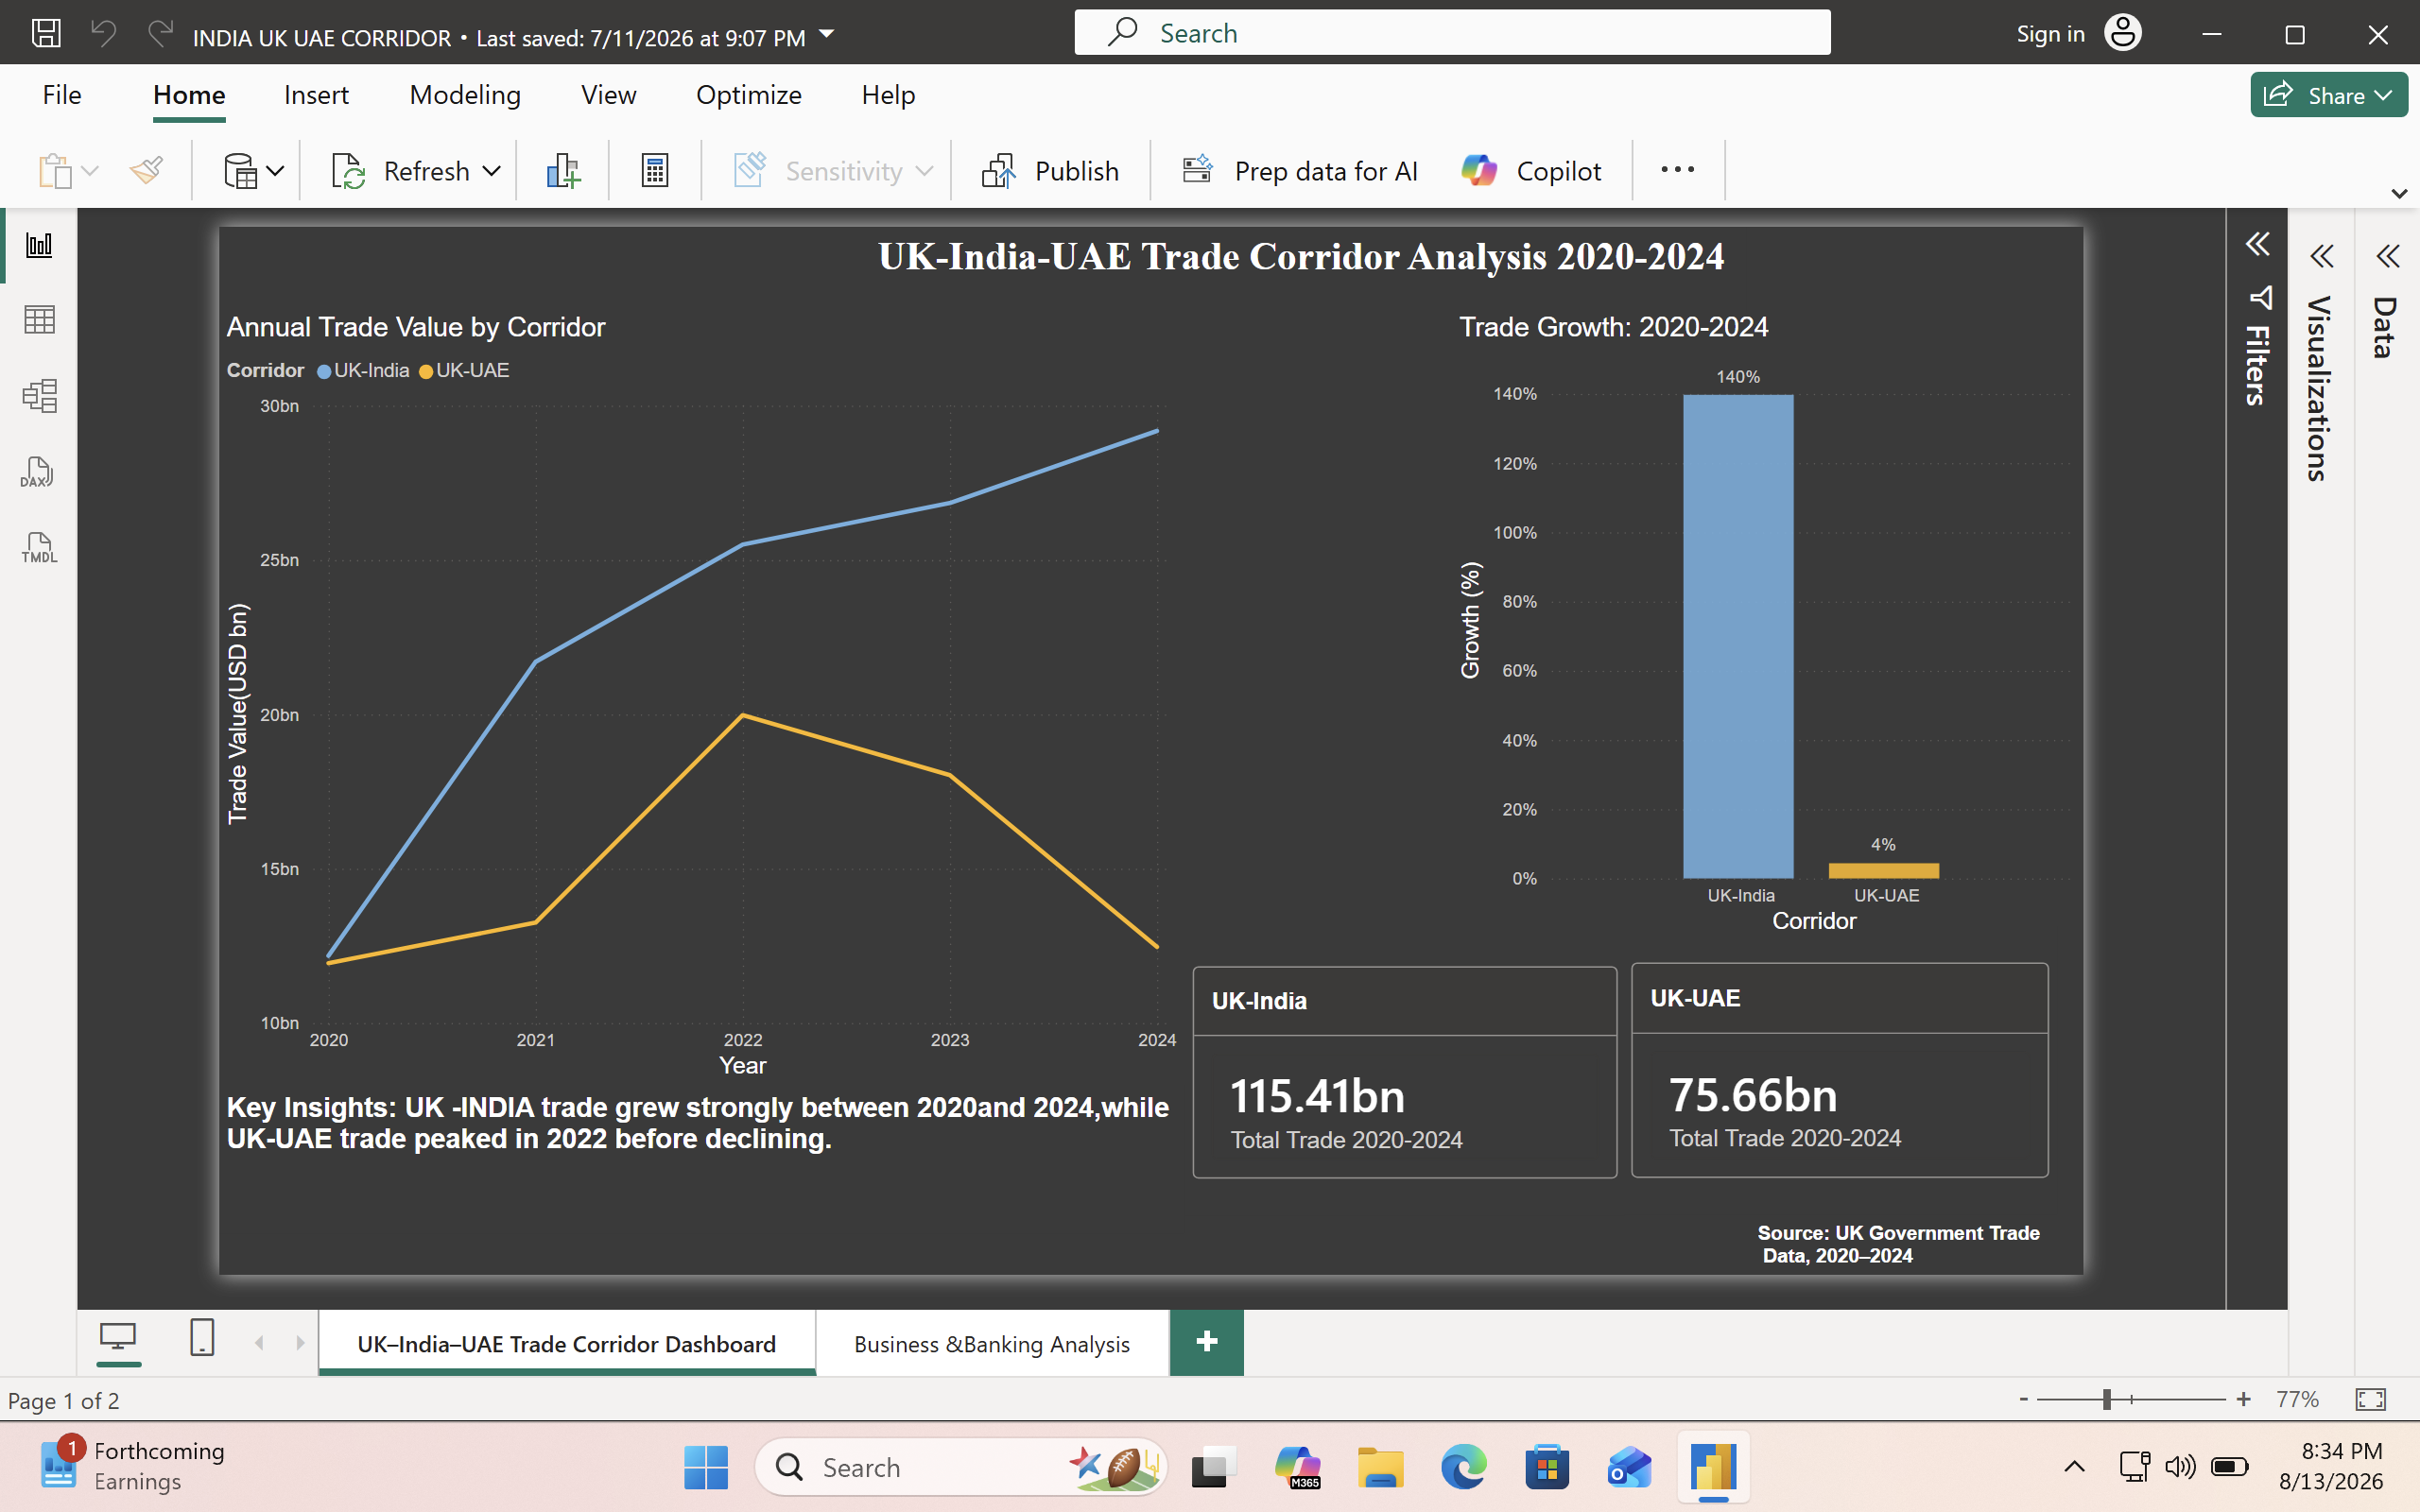

The page's visual inventory and layout, read from the dashboard file:
{"tool":"powerbi","page":{"name":"UK–India–UAE Trade Corridor Dashboard","canvas":[1280,720],"ordinal":0},"visuals":[{"type":"lineChart","title":" Annual Trade Value by Corridor","fields":{"Category":["All Trade Data.Year"],"Series":["All Trade Data.Corridor"],"Y":["Sum(All Trade Data.Trade Value USD)"]},"box":[0,58.5,663.1,531.5],"z":0},{"type":"textbox","box":[401.9,0,647.6,59.1],"z":2000},{"type":"cardVisual","fields":{"Data":["Sum(All Trade Data.Trade Value USD)"],"Rows":["All Trade Data.Corridor"]},"box":[663.1,482.7,302.3,196.7],"z":3000},{"type":"cardVisual","fields":{"Data":["Sum(All Trade Data.Trade Value USD)"],"Rows":["All Trade Data.Corridor"]},"box":[965.4,481.1,297.4,198.3],"z":4000},{"type":"textbox","box":[0,590,663.1,102.4],"z":5000},{"type":"clusteredColumnChart","title":"Trade Growth: 2020-2024","fields":{"Category":["All Trade Data.Corridor"],"Y":["PowerBI Ready.Trade Growth %"]},"box":[846.8,58.5,434,432.3],"z":5001},{"type":"textbox","box":[1048.3,679.4,235.7,42.3],"z":5002}]}

Visuals, with their boxes on the page's 1280x720 design canvas (x1, y1, x2, y2). These are canvas units, not pixel positions in the 2420x1512 screenshot, which may show the page scaled, cropped or inside an application window:
" Annual Trade Value by Corridor" lineChart: (0, 58, 663, 590)
textbox: (402, 0, 1050, 59)
cardVisual - Sum(All Trade Data.Trade Value USD) x All Trade Data.Corridor: (663, 483, 965, 679)
cardVisual - Sum(All Trade Data.Trade Value USD) x All Trade Data.Corridor: (965, 481, 1263, 679)
textbox: (0, 590, 663, 692)
"Trade Growth: 2020-2024" clusteredColumnChart: (847, 58, 1281, 491)
textbox: (1048, 679, 1284, 722)
